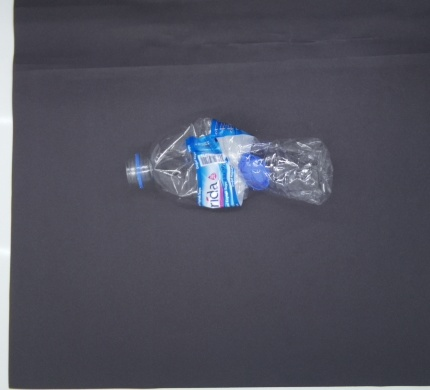plastic_bottle: (126, 118, 334, 210)
